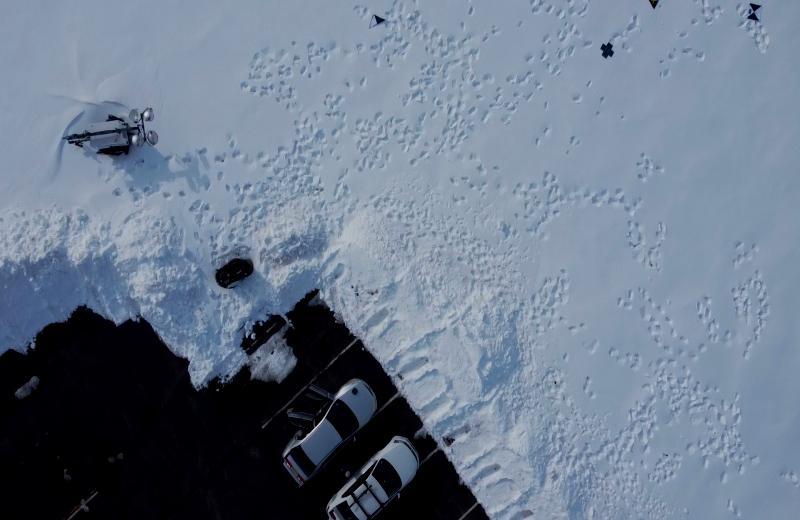Cross: (598, 41, 617, 60)
Triangle: (647, 0, 660, 11)
